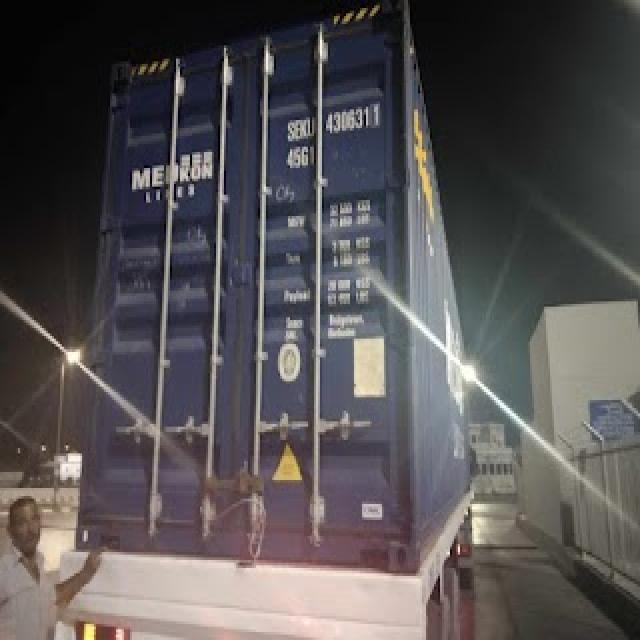ISO: (286, 144, 314, 168)
container_number: (286, 104, 386, 136)
